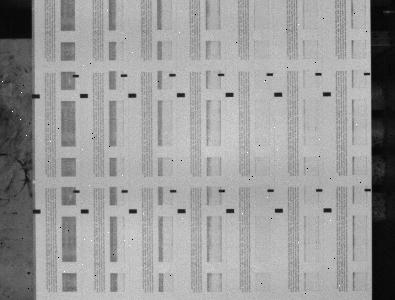qblock: (225, 92, 234, 97), (274, 92, 283, 97), (128, 93, 137, 98), (226, 208, 235, 213), (275, 208, 283, 213), (33, 209, 41, 214), (177, 209, 186, 213), (323, 208, 332, 212), (177, 93, 185, 97), (80, 94, 88, 98), (323, 92, 331, 96), (81, 209, 89, 213), (129, 209, 137, 213), (32, 94, 40, 98)
smallqblock: (218, 73, 225, 77), (169, 73, 176, 77), (73, 189, 80, 193), (316, 188, 323, 192), (72, 74, 79, 77), (315, 73, 322, 76), (170, 189, 177, 192), (121, 190, 128, 193), (267, 189, 274, 192), (364, 72, 371, 75), (364, 188, 371, 191), (121, 74, 127, 77), (267, 73, 273, 76), (219, 189, 225, 192)
